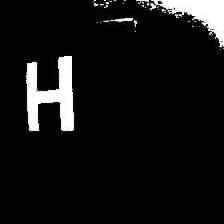LTR_H: (16, 52, 83, 137)
